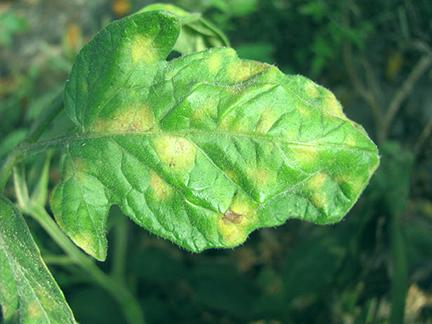Tomato mold leaf: (41, 8, 388, 266)
